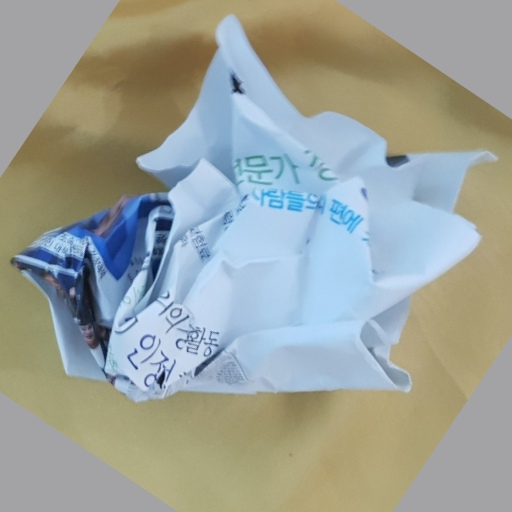Paper_3: (10, 16, 491, 407)
